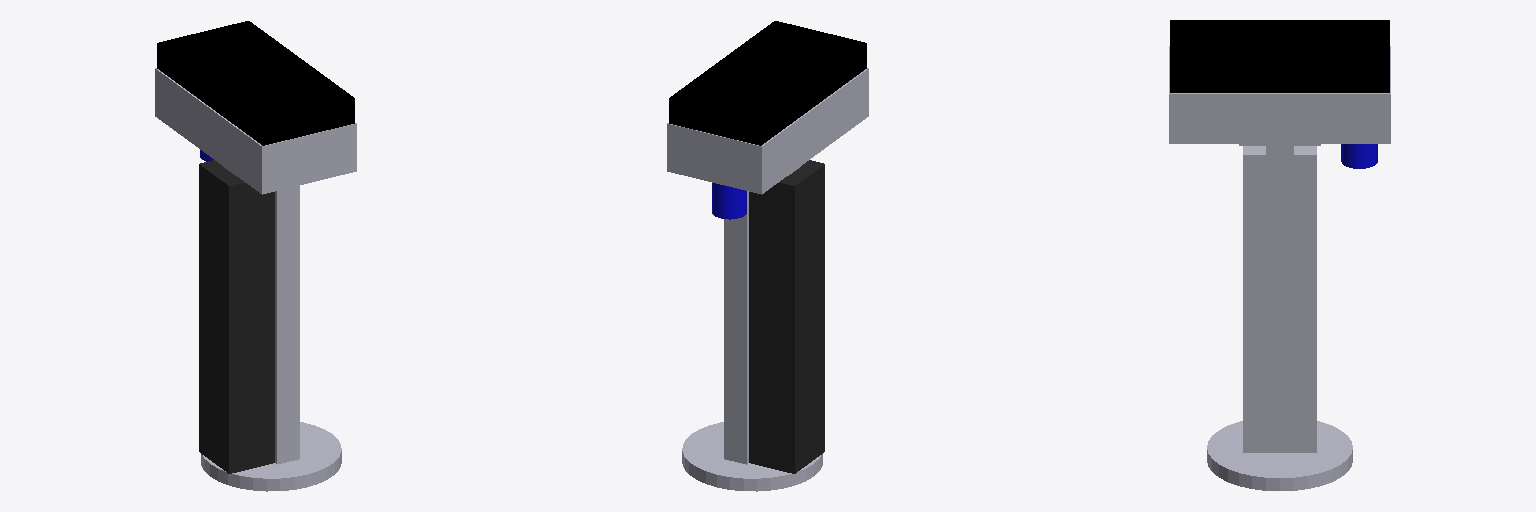
URDF robot description (unigripper):
<?xml version="1.0" ?>
<robot name="unigripper" xmlns:xacro="http://ros.org/wiki/xacro">

  <link name="base_plate">
    <visual>
      <geometry>
        <cylinder radius="0.04" length="0.008" />
      </geometry>
      <material name="silver">
        <color rgba="0.76 0.76 0.82 1"/>
      </material>
    </visual>
    <collision>
      <origin xyz="0 0 0" rpy="0 0 0" />
        <geometry>
          <cylinder radius="0.04" length="0.008" />
        </geometry>
      <material name="silver">
        <color rgba="0.76 0.76 0.82 1"/>
      </material>
    </collision>
    <inertial>
      <origin rpy="0 0 0" xyz="0 0 0"/>
      <mass value="0.002"/>
      <inertia ixx="0" ixy="0" ixz="0" iyy="0" iyz="0" izz="0"/>
    </inertial>
  </link>
  
  <link name="main_beam">
    <visual>
      <geometry>
        <box size="0.015 0.040 0.180" />
      </geometry>
      <material name="silver">
        <color rgba="0.76 0.76 0.82 1"/>
      </material>
    </visual>
    <collision>
      <origin xyz="0 0 0.0" rpy="0 0 0" />
        <geometry>
          <box size="0.015 0.040 0.180" />
        </geometry>
      <material name="silver">
        <color rgba="0.76 0.76 0.82 1"/>
      </material>
    </collision>
    <inertial>
      <origin rpy="0 0 0" xyz="0 0 0"/>
      <mass value="0.01"/>
      <inertia ixx="0" ixy="0" ixz="0" iyy="0" iyz="0" izz="0"/>
    </inertial>
  </link>
  
  <link name="actuator">
    <visual>
      <geometry>
        <box size="0.03 0.035 0.180" />
      </geometry>
      <material name="dark_grey">
        <color rgba="0.2 0.2 0.2 1"/>
      </material>
    </visual>
    <collision>
      <origin xyz="0 0 0.0" rpy="0 0 0" />
      <geometry>
        <box size="0.03 0.035 0.180" />
      </geometry>
      <material name="dark_grey">
        <color rgba="0.2 0.2 0.2 1"/>
      </material>
    </collision>
    <inertial>
      <origin rpy="0 0 0" xyz="0 0 0"/>
      <mass value="0.01"/>
      <inertia ixx="0" ixy="0" ixz="0" iyy="0" iyz="0" izz="0"/>
    </inertial>
  </link>
  
  <link name="head_connector">
    <visual>
      <origin xyz="-0.01 0.0 -0.004" rpy="0 0 0" />
      <geometry>
        <box size="0.035 0.015 0.039" />
      </geometry>
      <material name="silver">
        <color rgba="0.76 0.76 0.82 1"/>
      </material>
    </visual>
    <collision>
      <origin xyz="-0.01 0.0 -0.004" rpy="0 0 0" />
        <geometry>
          <box size="0.035 0.015 0.039" />
        </geometry>
      <material name="silver">
        <color rgba="0.76 0.76 0.82 1"/>
      </material>
    </collision>
    <inertial>
      <origin rpy="0 0 0" xyz="0 0 0"/>
      <mass value="0.01"/>
      <inertia ixx="0" ixy="0" ixz="0" iyy="0" iyz="0" izz="0"/>
    </inertial>
  </link>
  
  <link name="head_plate">
    <visual>
      <origin xyz="-0.01 0.0 -0.004" rpy="0 0 0" />
      <geometry>
        <box size="0.045 0.045 0.005" />
      </geometry>
      <material name="silver">
        <color rgba="0.76 0.76 0.82 1"/>
      </material>
    </visual>
    <collision>
      <origin xyz="-0.01 0.0 -0.004" rpy="0 0 0" />
        <geometry>
          <box size="0.045 0.045 0.005" />
        </geometry>
      <material name="silver">
        <color rgba="0.76 0.76 0.82 1"/>
      </material>
    </collision>
    <inertial>
      <origin rpy="0 0 0" xyz="0 0 0"/>
      <mass value="0.01"/>
      <inertia ixx="0" ixy="0" ixz="0" iyy="0" iyz="0" izz="0"/>
    </inertial>
  </link>
  
  <link name="head_base">
    <visual>
      <origin xyz="-0.01 0.0 -0.004" rpy="0 0 0" />
      <geometry>
        <box size="0.062 0.121 0.03" />
      </geometry>
      <material name="silver">
        <color rgba="0.76 0.76 0.82 1"/>
      </material>
    </visual>
    <collision>
      <origin xyz="-0.01 0.0 -0.004" rpy="0 0 0" />
        <geometry>
          <box size="0.062 0.121 0.03" />
        </geometry>
      <material name="silver">
        <color rgba="0.76 0.76 0.82 1"/>
      </material>
    </collision>
    <inertial>
      <origin rpy="0 0 0" xyz="0 0 0"/>
      <mass value="0.01"/>
      <inertia ixx="0" ixy="0" ixz="0" iyy="0" iyz="0" izz="0"/>
    </inertial>
  </link>
  
  <link name="head_sponge">
    <visual>
      <origin xyz="-0.01 0.0 -0.004" rpy="0 0 0" />
      <geometry>
        <box size="0.06 0.12 0.016" />
      </geometry>
      <material name="black">
        <color rgba="0 0 0 1"/>
      </material>
    </visual>
    <collision>
      <origin xyz="-0.01 0.0 -0.004" rpy="0 0 0" />
        <geometry>
          <box size="0.06 0.12 0.016" />
        </geometry>
      <material name="black">
        <color rgba="0.2 0.2 0.2 1"/>
      </material>
    </collision>
    <inertial>
      <origin rpy="0 0 0" xyz="0 0 0"/>
      <mass value="0.01"/>
      <inertia ixx="0" ixy="0" ixz="0" iyy="0" iyz="0" izz="0"/>
    </inertial>
  </link>

  <link name="tube_port">
    <visual>
      <origin xyz="-0.01 0.0 -0.004" rpy="0 0 0" />
      <geometry>
        <cylinder radius="0.01" length="0.025" />
      </geometry>
      <material name="blue">
        <color rgba="0.1 0.1 0.92 1"/>
      </material>
    </visual>
    <collision>
      <origin xyz="-0.01 0.0 -0.004" rpy="0 0 0" />
        <geometry>
          <cylinder radius="0.01" length="0.025" />
        </geometry>
      <material name="blue">
        <color rgba="0.1 0.1 0.92 1"/>
      </material>
    </collision>
    <inertial>
      <origin rpy="0 0 0" xyz="0 0 0"/>
      <mass value="0.01"/>
      <inertia ixx="0" ixy="0" ixz="0" iyy="0" iyz="0" izz="0"/>
    </inertial>
  </link>
  

<!-- Joints -->

  <joint name="plate_beam" type="fixed">
    <origin xyz="0.0 0.0 0.094" rpy="0 0 0" />
    <axis xyz="0 0 0" />
    <parent link="base_plate" />
    <child link="main_beam" />
  </joint>

  <joint name="beam_act" type="fixed">
    <origin xyz="-0.0225 0.0 0.0" rpy="0 0 0" />
    <axis xyz="0 0 0" />
    <parent link="main_beam" />
    <child link="actuator" />
  </joint>

  <joint name="neck_plate" type="fixed">
    <origin xyz="0.0 0 0.022" rpy="0 0 0" />
    <axis xyz="0 0 0" />
    <parent link="head_connector" />
    <child link="head_plate" />
  </joint>

  <joint name="plate_head" type="fixed">
    <origin xyz="0.0 0 0.0175" rpy="0 0 0" />
    <axis xyz="0 0 0" />
    <parent link="head_plate" />
    <child link="head_base" />
  </joint>

  <joint name="head_sponge" type="fixed">
    <origin xyz="0.0 0 0.023" rpy="0 0 0" />
    <axis xyz="0 0 0" />
    <parent link="head_base" />
    <child link="head_sponge" />
  </joint>

  <joint name="head_valve" type="fixed">
    <origin xyz="0.0 0.0435 -0.0275" rpy="0 0 0" />
    <axis xyz="0 0 0" />
    <parent link="head_base" />
    <child link="tube_port" />
  </joint>

  <joint name="head_hinge" type="revolute">
    <origin xyz="0.0 0.0 0.0825" rpy="0 0 0" />
    <axis xyz="0 1 0" />
    <parent link="main_beam" />
    <child link="head_connector" />
    <dynamics damping="0.0" friction="0.5" />
    <limit effort="50" velocity="10" lower="-0.05" upper="1.6" />
  </joint>

</robot>

--- What the picture shows (computed from the rendered views, not written in the file) ---
3 views of the same robot in one strip: view 1: azimuth 30°, elevation 25°; view 2: azimuth 150°, elevation 25°; view 3: azimuth 270°, elevation 25° (orthographic).
Model unigripper with 8 links and 7 joints (1 revolute, 6 fixed), rooted at base_plate, posed every joint at zero.
Visible links, largest first — view 1: actuator, head_sponge, head_base, main_beam, base_plate; view 2: actuator, head_sponge, head_base, main_beam, base_plate, tube_port; view 3: main_beam, head_sponge, head_base, base_plate, tube_port.
Boxes of the visible links, <box> form: actuator: <box>199,160,274,473</box>; head_sponge: <box>157,21,354,145</box>; head_base: <box>155,68,356,194</box>; main_beam: <box>275,185,299,464</box>; base_plate: <box>201,422,341,491</box>; actuator: <box>749,160,824,473</box>; head_sponge: <box>669,21,866,145</box>; head_base: <box>667,68,868,194</box>; main_beam: <box>724,191,748,464</box>; base_plate: <box>682,422,822,491</box>; tube_port: <box>712,183,746,219</box>; main_beam: <box>1243,146,1316,452</box>; head_sponge: <box>1170,20,1389,92</box>; head_base: <box>1169,46,1390,143</box>; base_plate: <box>1207,421,1352,490</box>; tube_port: <box>1341,144,1377,168</box>.
Size in the robot's own frame: 0.081 by 0.121 by 0.247 metres.
Geometry: primitives only (box / cylinder / sphere), no mesh files.